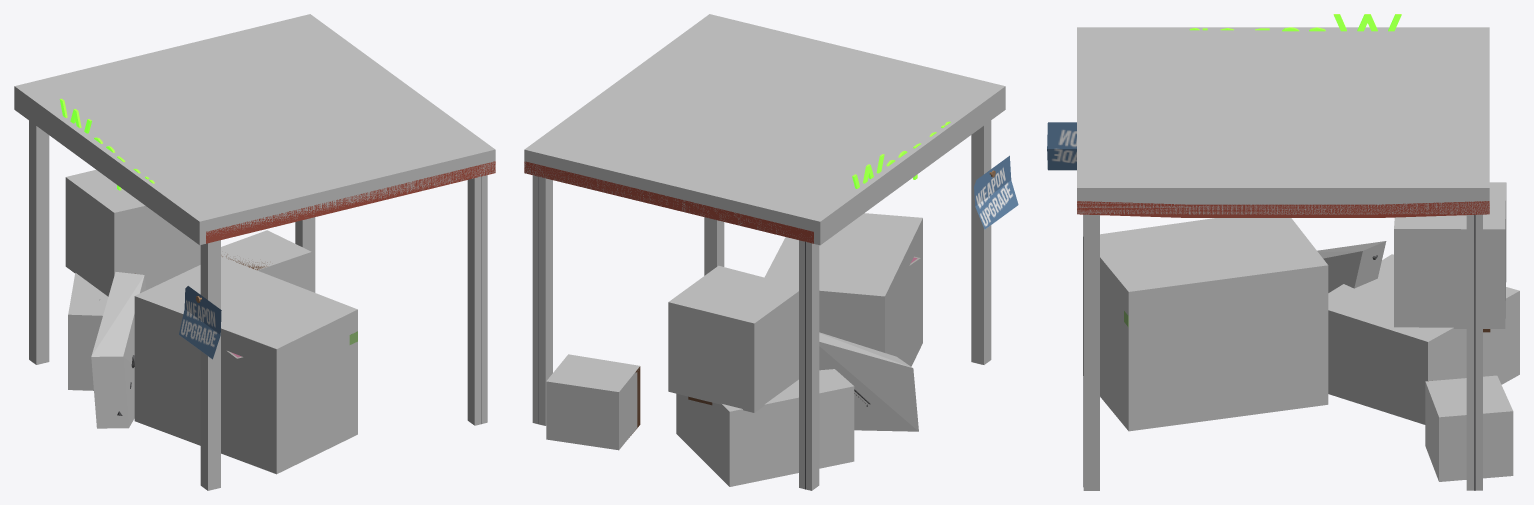
Rendered from SM_Market_Gun.fbx.
3 renders of one model, left to right at view 1: azimuth 30°, elevation 25°; view 2: azimuth 150°, elevation 25°; view 3: azimuth 270°, elevation 25°, orthographic. The views are drawn at different scales.
Visible parts, largest first — view 1: SM_Market_Gun_ConvexHulls, SM_Market_Gun; view 2: SM_Market_Gun_ConvexHulls, SM_Market_Gun; view 3: SM_Market_Gun_ConvexHulls, SM_Market_Gun.
Boxes of the visible parts, box(x1,y1,x2,y2) form: SM_Market_Gun_ConvexHulls: box(14, 14, 495, 490); SM_Market_Gun: box(59, 98, 495, 423); SM_Market_Gun_ConvexHulls: box(524, 14, 1005, 490); SM_Market_Gun: box(524, 121, 1018, 489); SM_Market_Gun_ConvexHulls: box(1077, 27, 1519, 490); SM_Market_Gun: box(1047, 14, 1490, 490).
Bounding box in the file's own units: 279 × 337 × 253.
